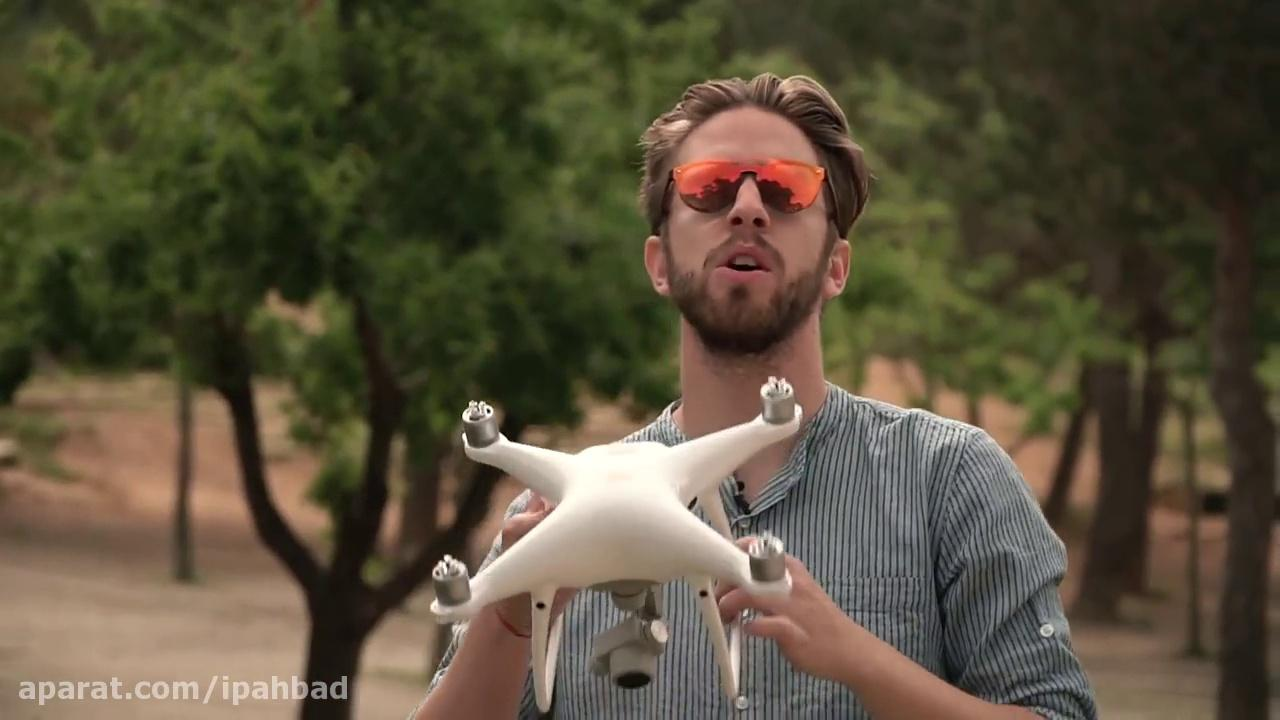drone: (424, 369, 807, 717)
